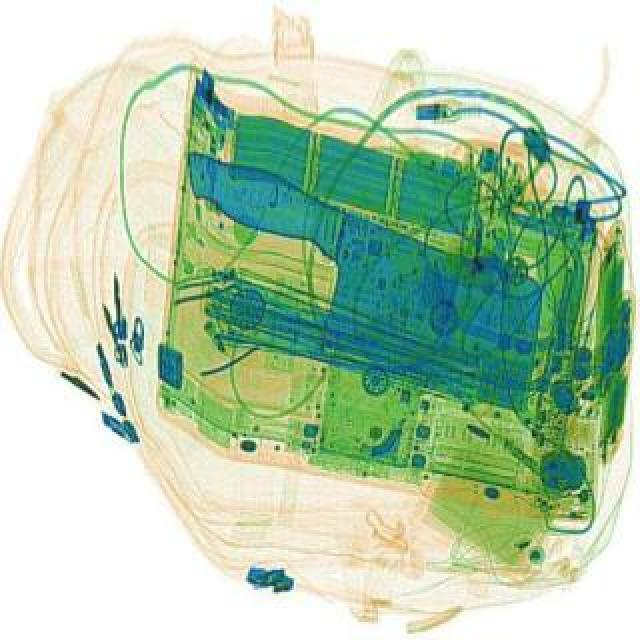knife: (136, 148, 576, 412)
